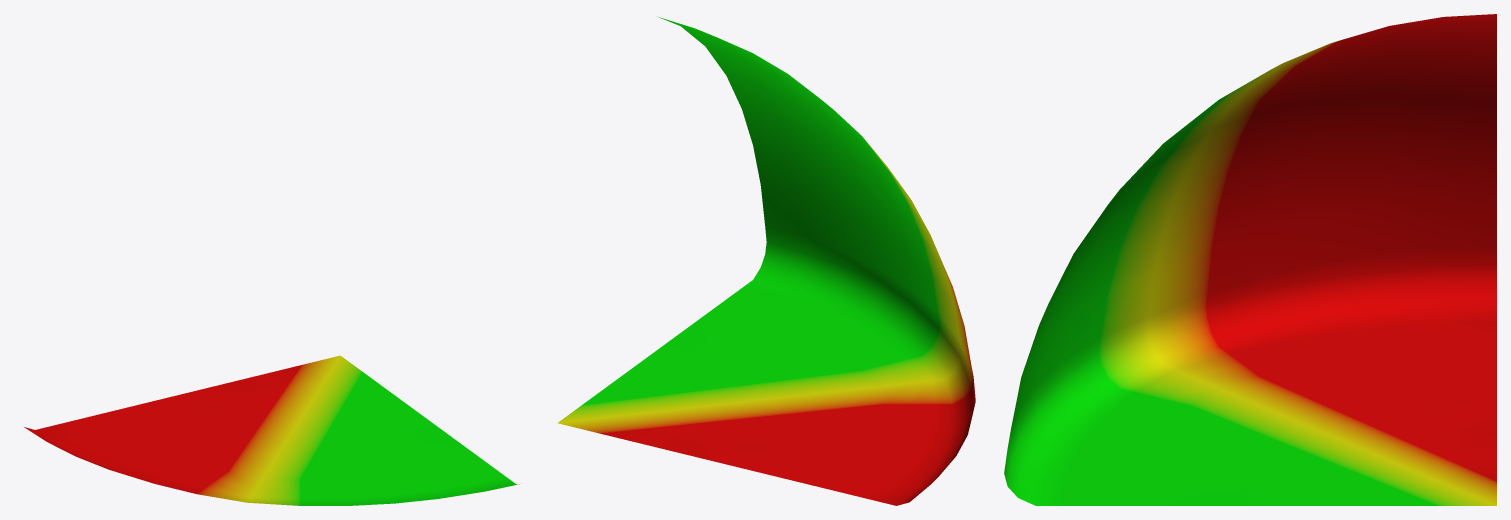
Rendered from Environment.gltf.
The picture shows the model from 3 angles, left to right: view 1: azimuth 30°, elevation 25°; view 2: azimuth 150°, elevation 25°; view 3: azimuth 270°, elevation 25°; orthographic projection. The views are drawn at different scales.
Visible parts, largest first — view 1: Roundcube; view 2: Roundcube; view 3: Roundcube.
Part boxes in pixels (box(x1,y1,x2,y2)): Roundcube: box(24, 355, 521, 505); Roundcube: box(557, 16, 975, 505); Roundcube: box(1004, 14, 1496, 505).
Bounding box in the file's own units: 11.27 × 11.27 × 11.27.
